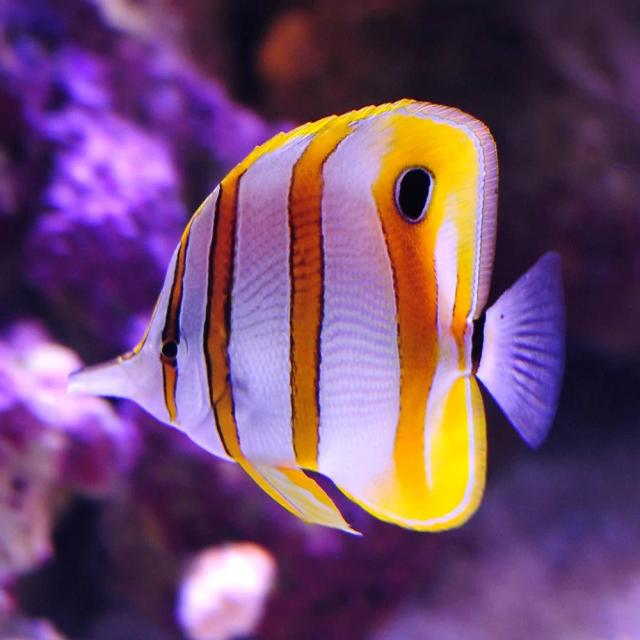ButterflyFish: (64, 104, 564, 542)
